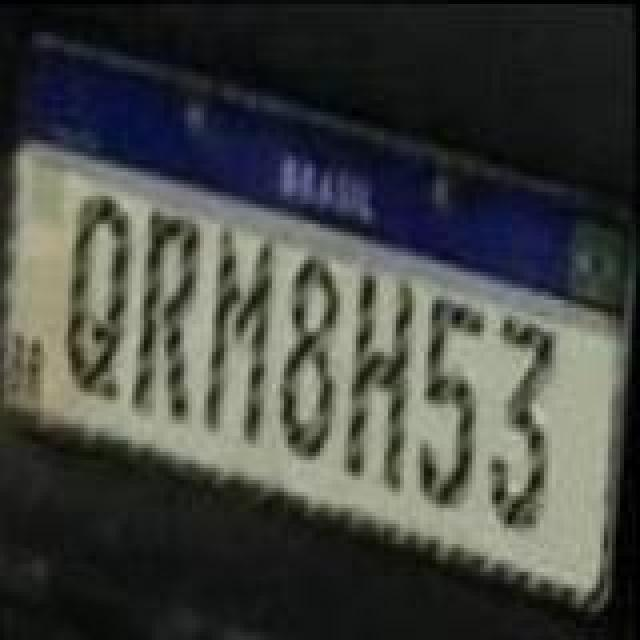3: (486, 314, 562, 534)
5: (418, 292, 494, 508)
8: (276, 248, 344, 460)
H: (346, 274, 422, 494)
M: (200, 226, 276, 454)
Q: (66, 192, 138, 408)
R: (128, 206, 204, 422)
